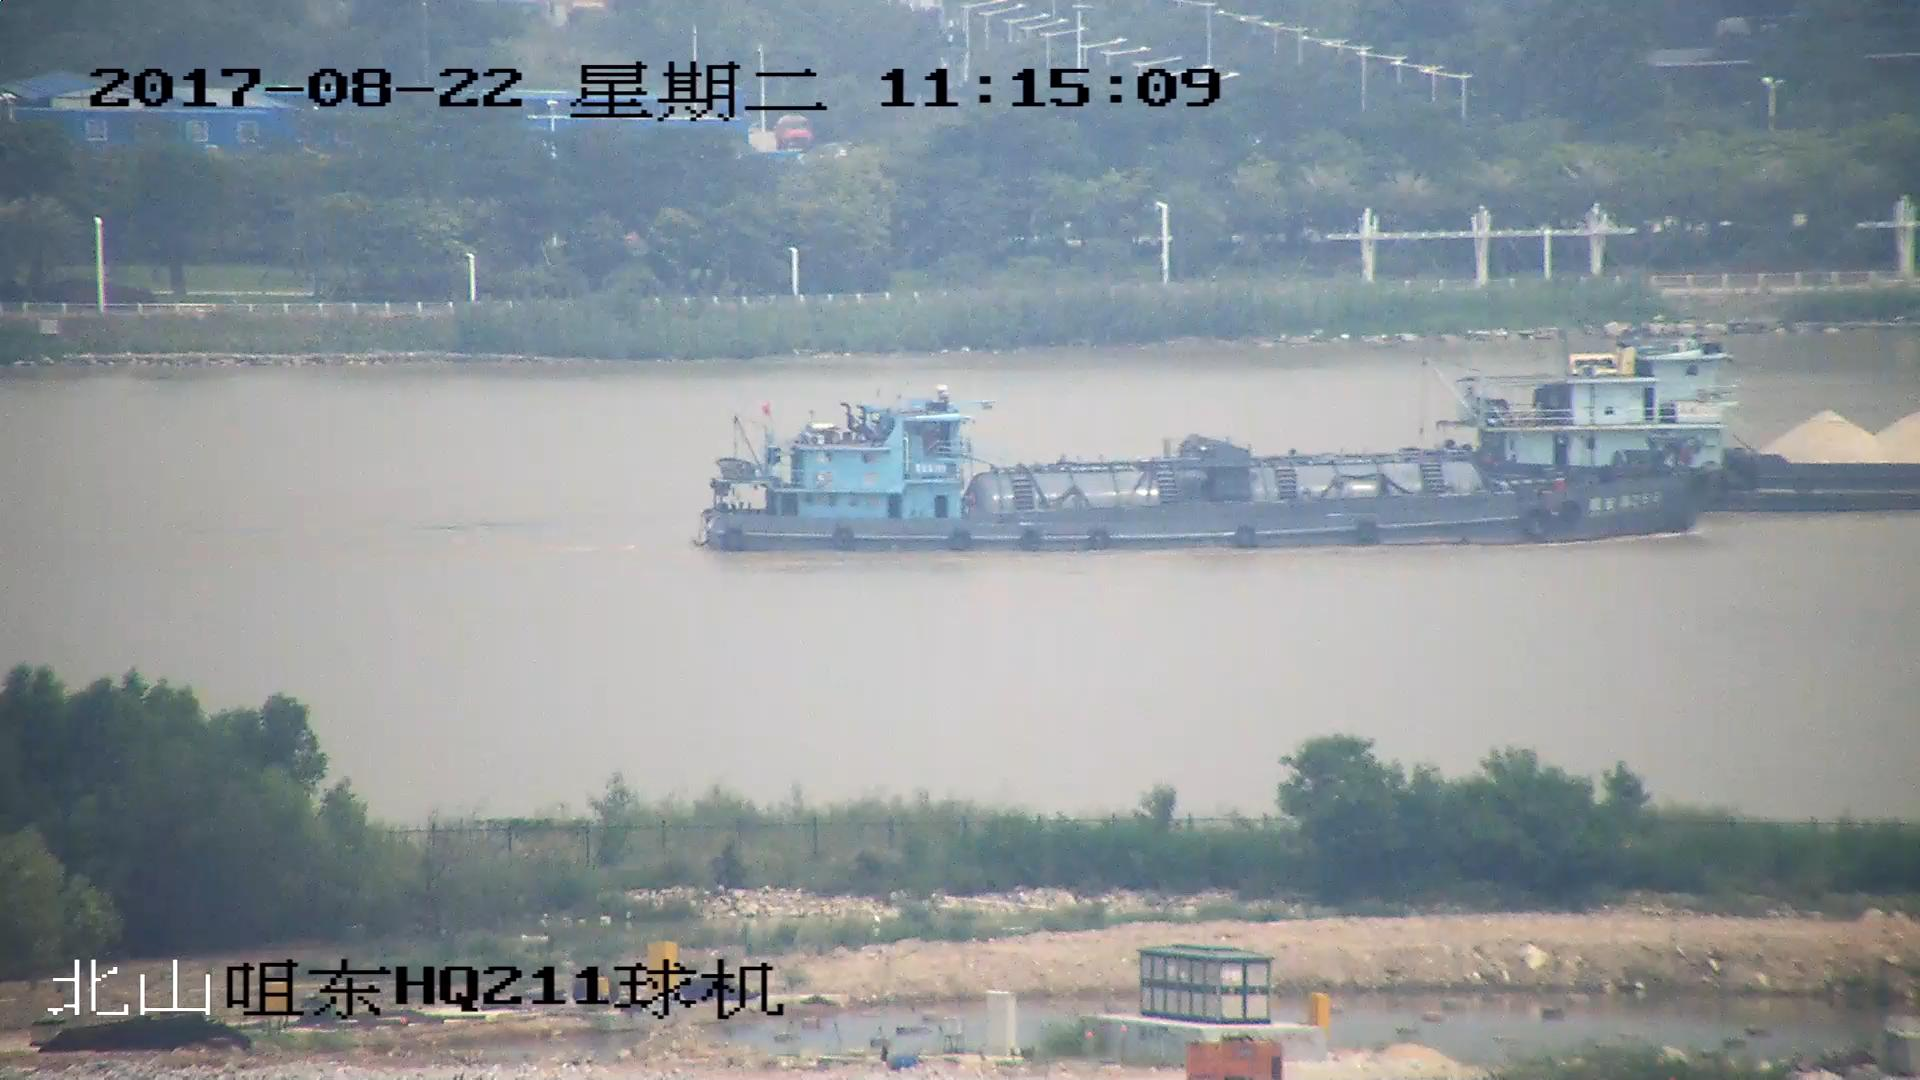bulk cargo carrier: (697, 399, 1725, 552)
ore carrier: (1455, 348, 1920, 510)
